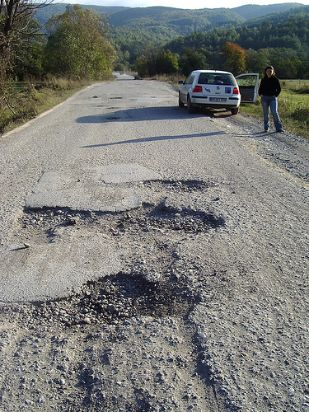pothole: (18, 261, 210, 341), (20, 199, 223, 248)
